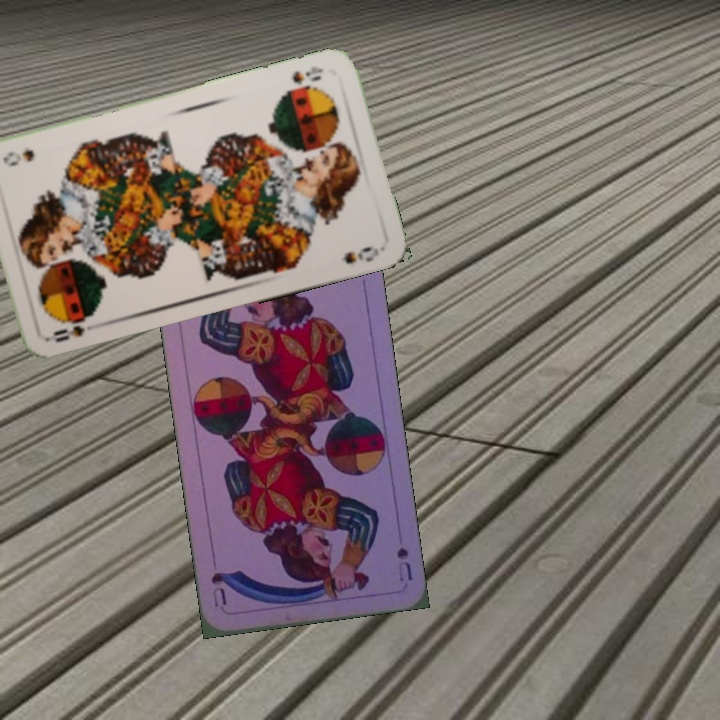SO: (44, 311, 97, 345), (282, 62, 326, 95)
SU: (392, 543, 415, 584)
